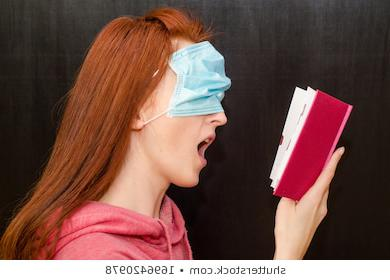mask_weared_incorrect: (162, 62, 232, 189)
